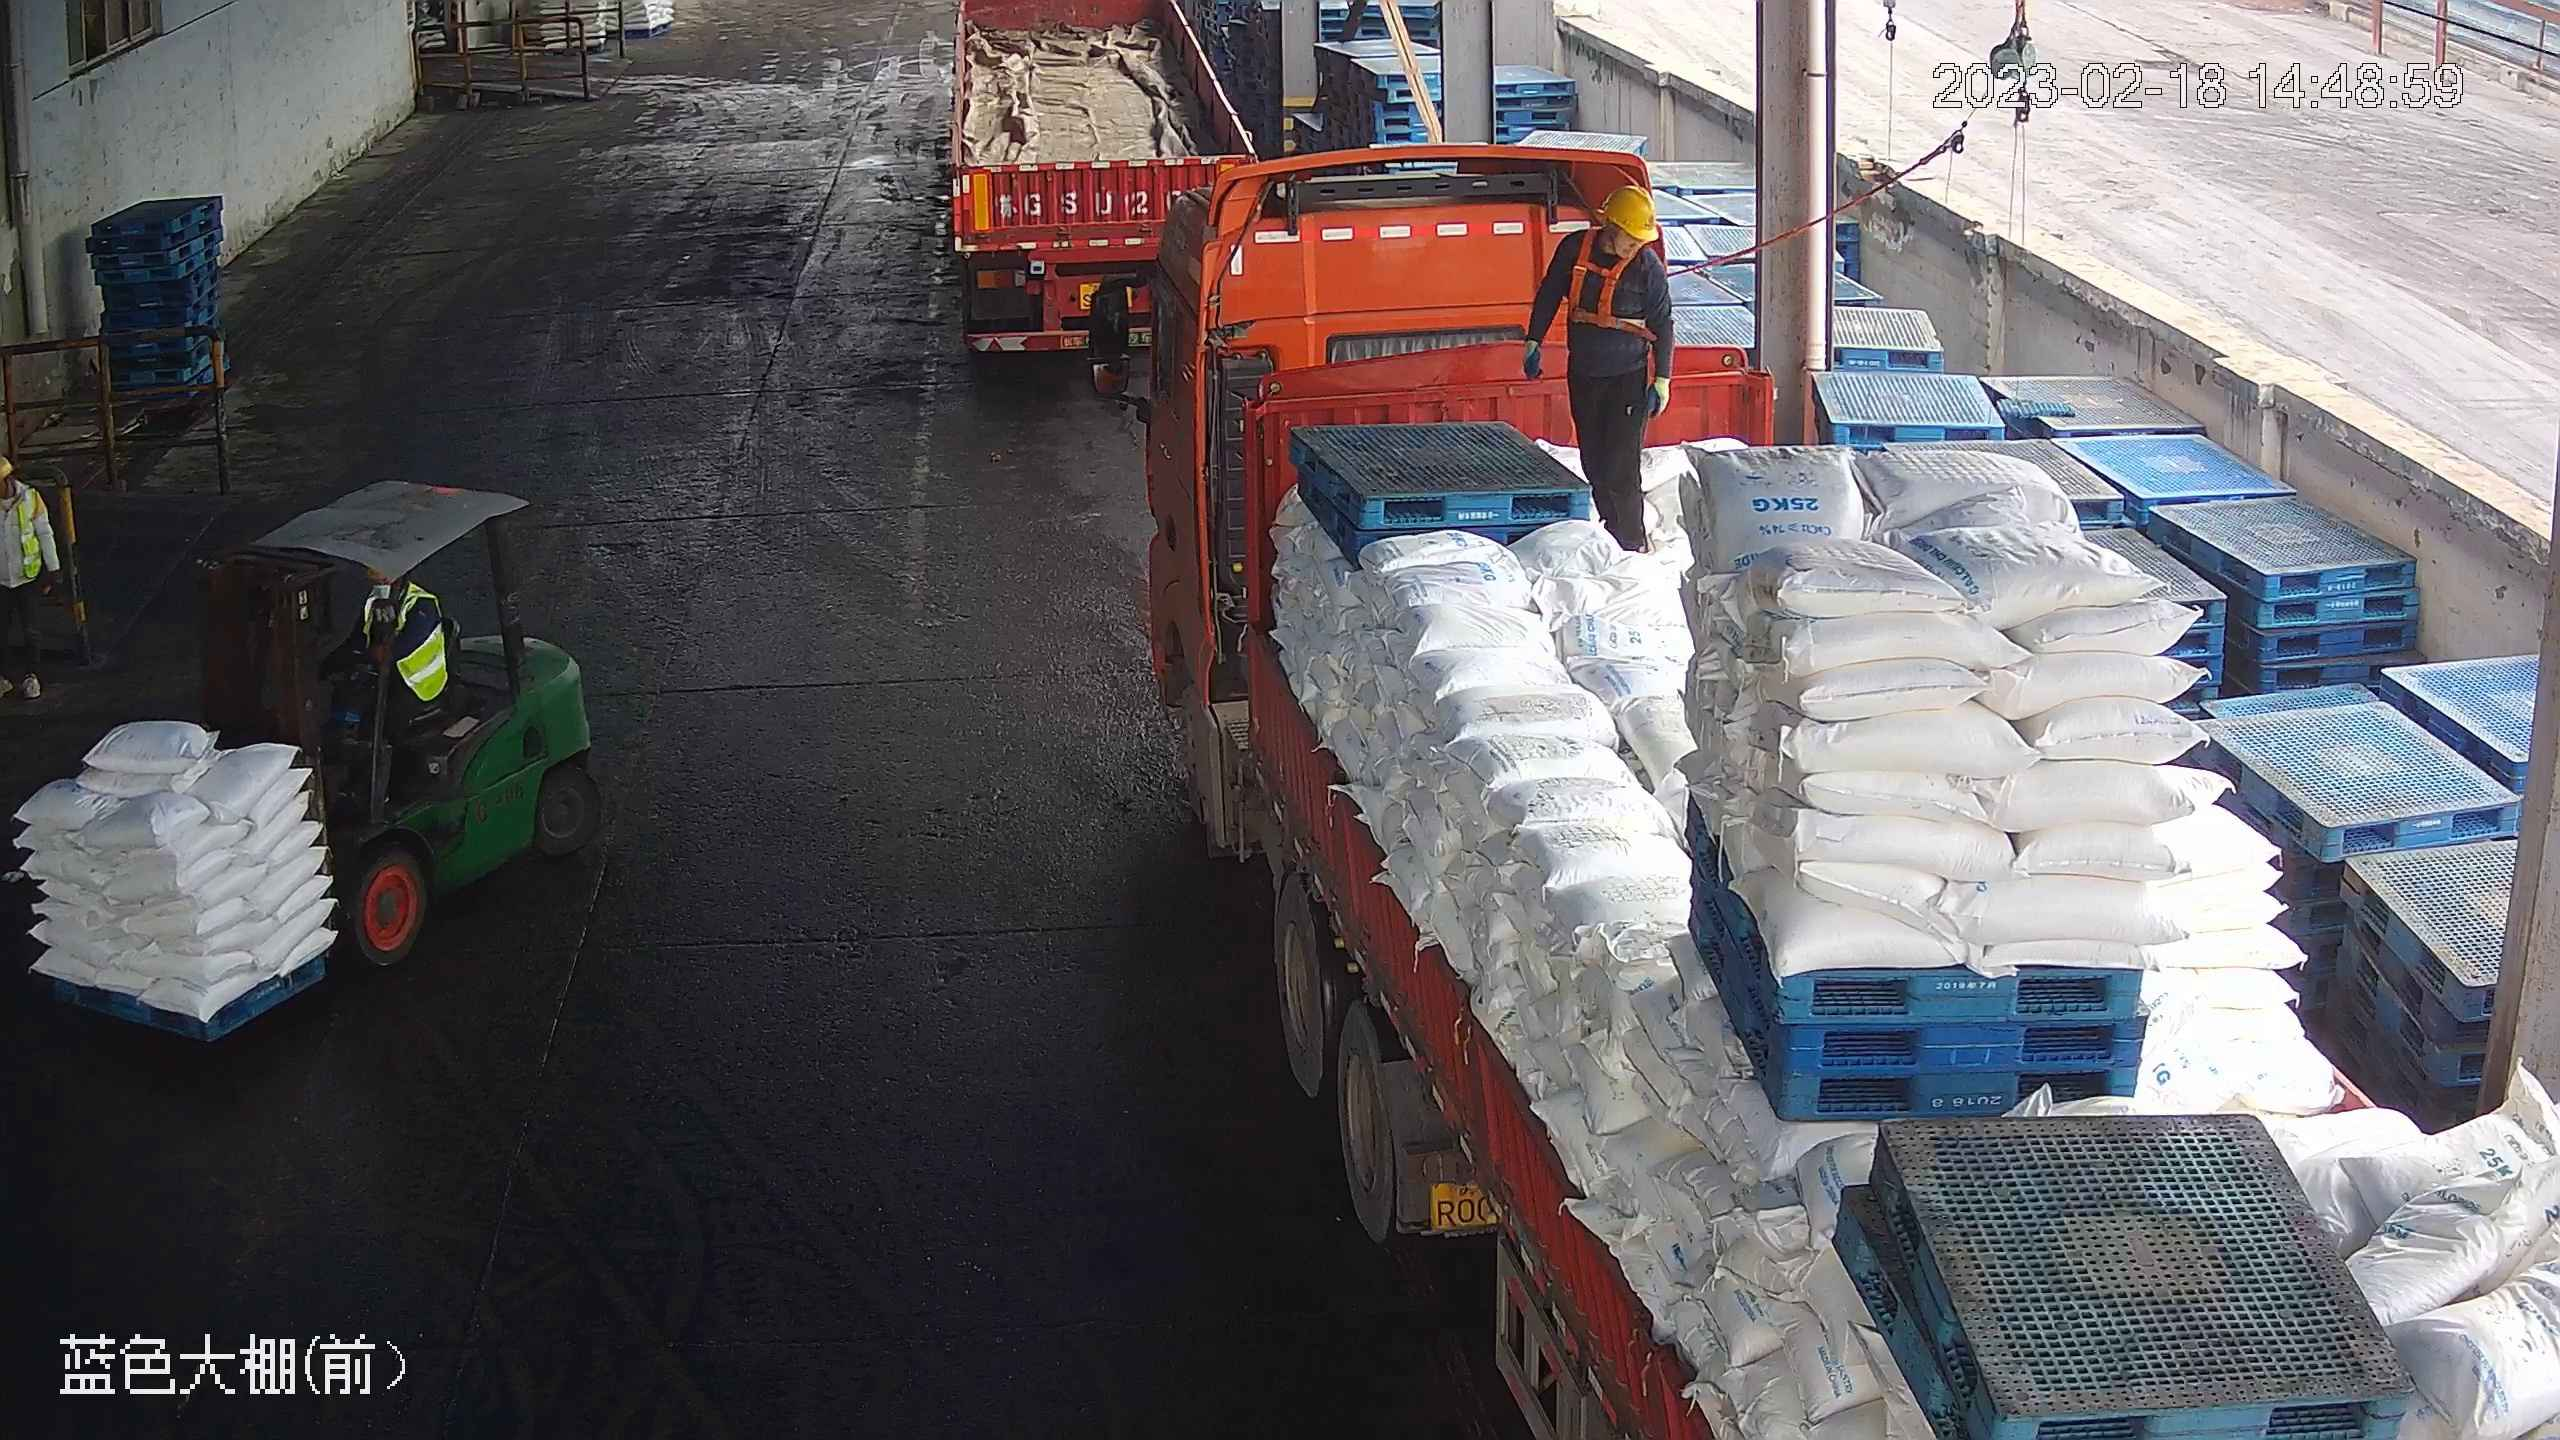belt: (1563, 227, 1657, 335)
head: (1547, 181, 1672, 285)
helmet: (1599, 181, 1661, 245)
people: (1520, 180, 1677, 556)
truck: (1086, 130, 2555, 1440), (937, 1, 1214, 377)
